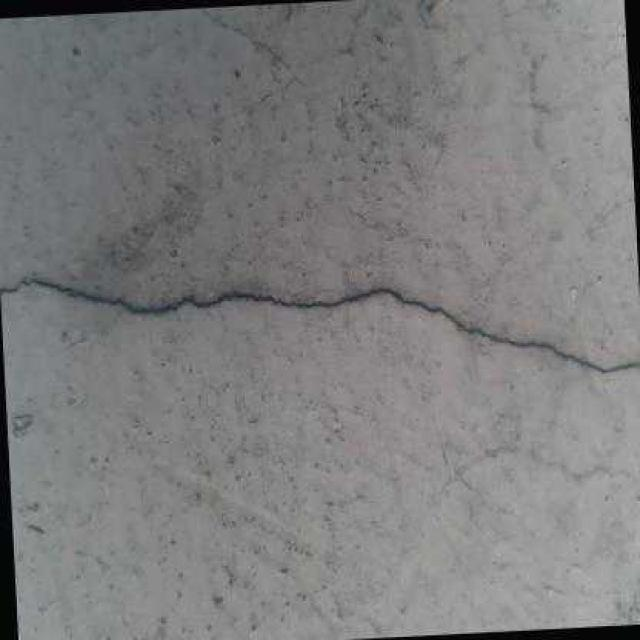D00: (0, 274, 640, 374)
